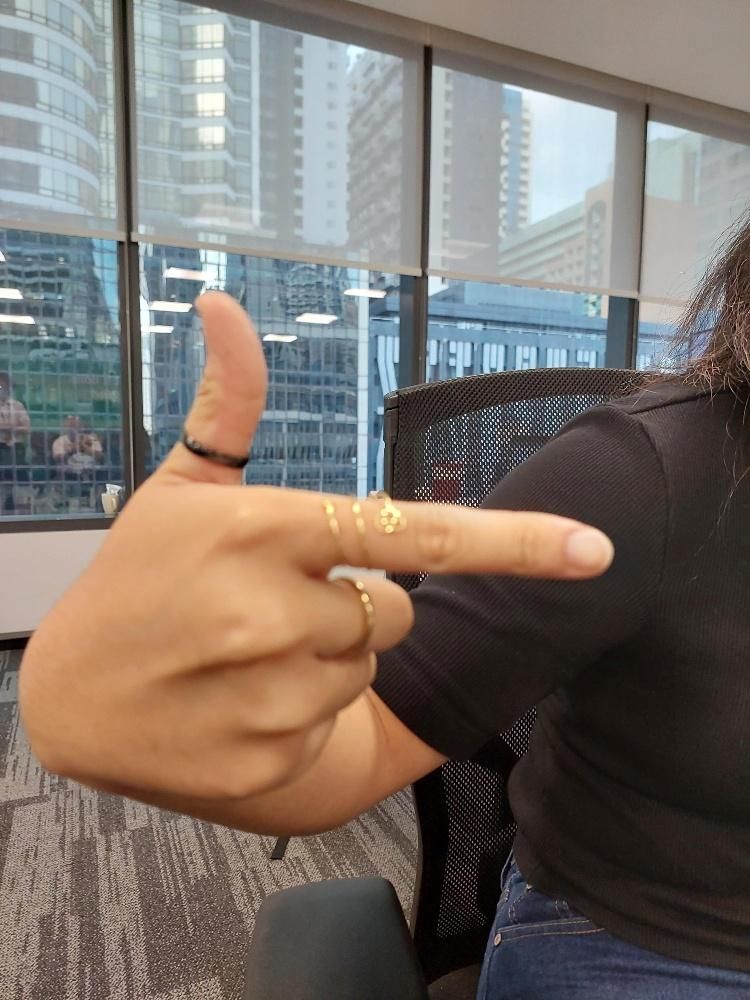g: (15, 288, 618, 803)
